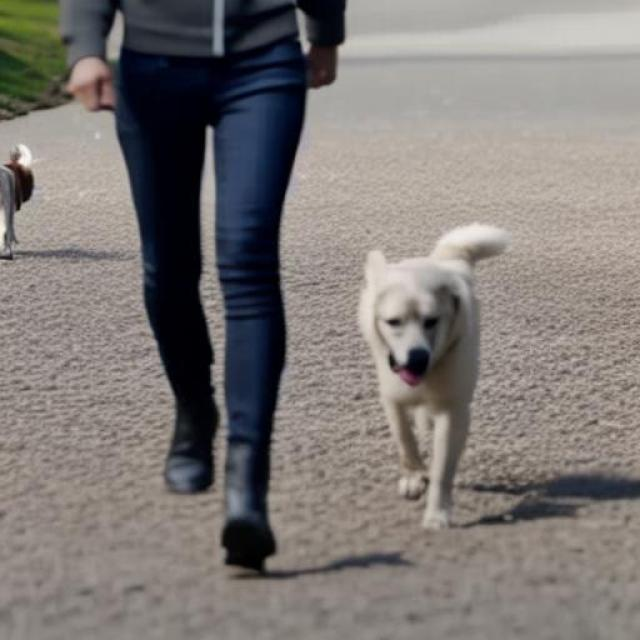Unleashed_Dog: (116, 56, 513, 532)
